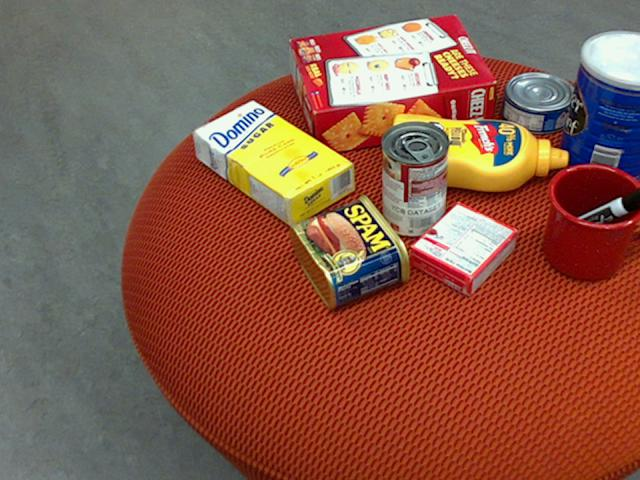cracker_box: (289, 13, 495, 154)
gelatin_box: (408, 203, 518, 297)
large_marker: (546, 185, 639, 245)
master_chef_can: (555, 31, 639, 192)
mug: (543, 162, 639, 280)
mustard_bottle: (386, 113, 566, 191)
potted_meat_can: (288, 193, 410, 309)
sugar_box: (191, 99, 354, 228)
tomato_soup_can: (380, 119, 448, 236)
tuna_fish_can: (498, 71, 574, 132)
